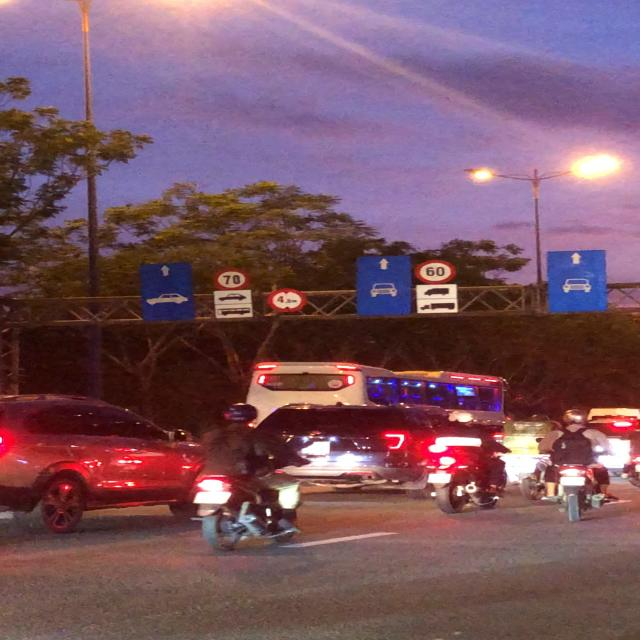Bien bao han che chieu cao: (264, 286, 309, 313)
Bien bao toc do toi da cho phep: (410, 258, 459, 286), (209, 266, 256, 292)
